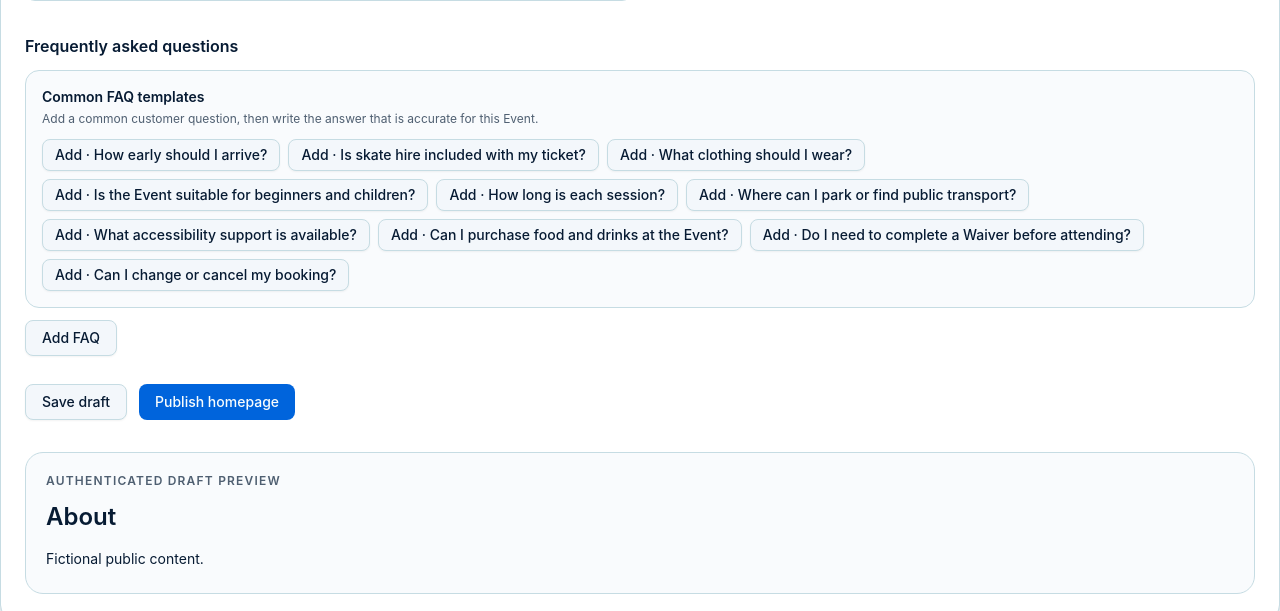
Scenario: EventSiteContentWorkspace › publishes a previously saved draft deliberately
(page scrolled)
Step 1. Click the button "Publish homepage" → point(217, 402), box left=139, top=384, right=295, bottom=420
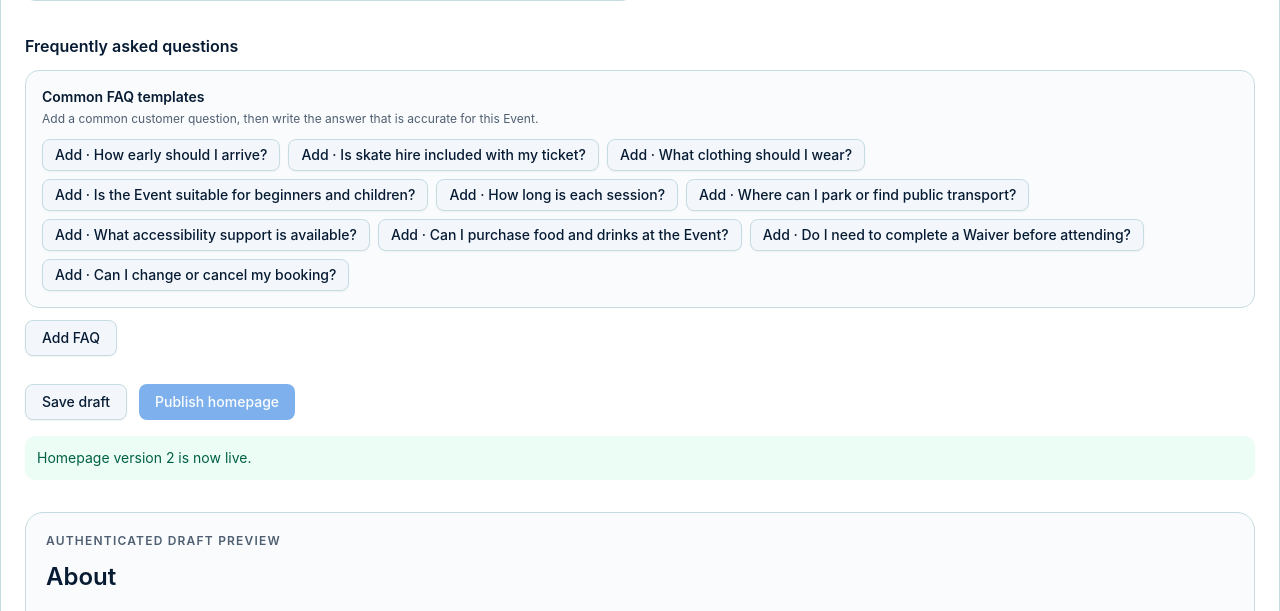
Expected: the message shows "Homepage version 2 is now live", left=37, top=449, right=252, bottom=466
